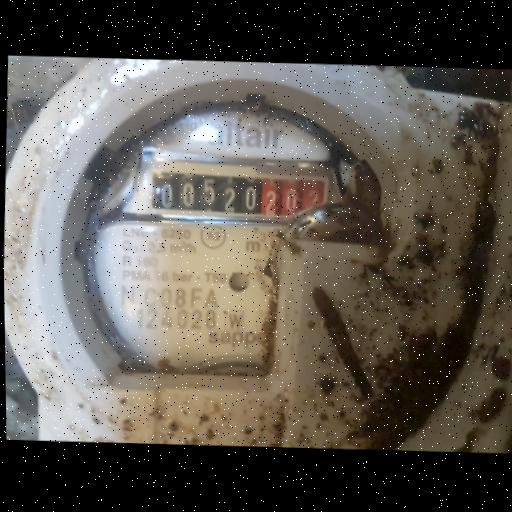0: (175, 172, 199, 211), (155, 170, 177, 209), (238, 175, 260, 214), (281, 178, 299, 215)
2: (217, 174, 241, 212), (259, 177, 281, 216), (301, 180, 323, 212)
5: (197, 173, 219, 212)
border_water_meter_number: (138, 153, 332, 228)
